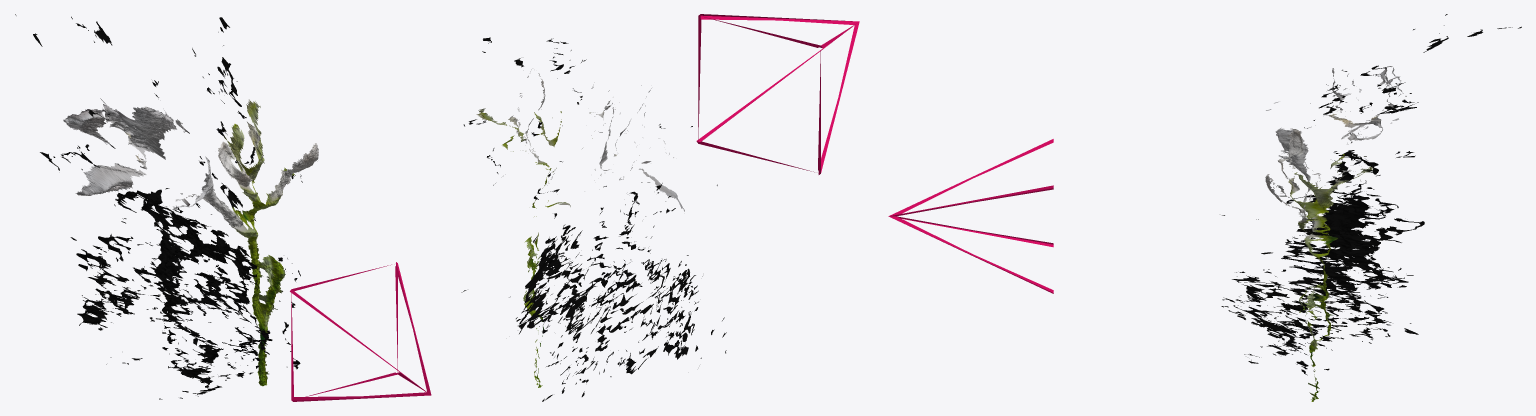
File: map-anything-test-2-mesh.glb
The picture shows the model from 3 angles, left to right: view 1: azimuth 30°, elevation 25°; view 2: azimuth 150°, elevation 25°; view 3: azimuth 270°, elevation 25°; orthographic projection. The views are drawn at different scales.
Visible parts, largest first — view 1: world; view 2: world; view 3: world.
Part boxes in pixels (x1,y1,x2,y2): world: (15,14,431,401); world: (461,14,859,401); world: (888,14,1521,401).
Size of the model in its own units: 1.71 by 2.65 by 4.6.
